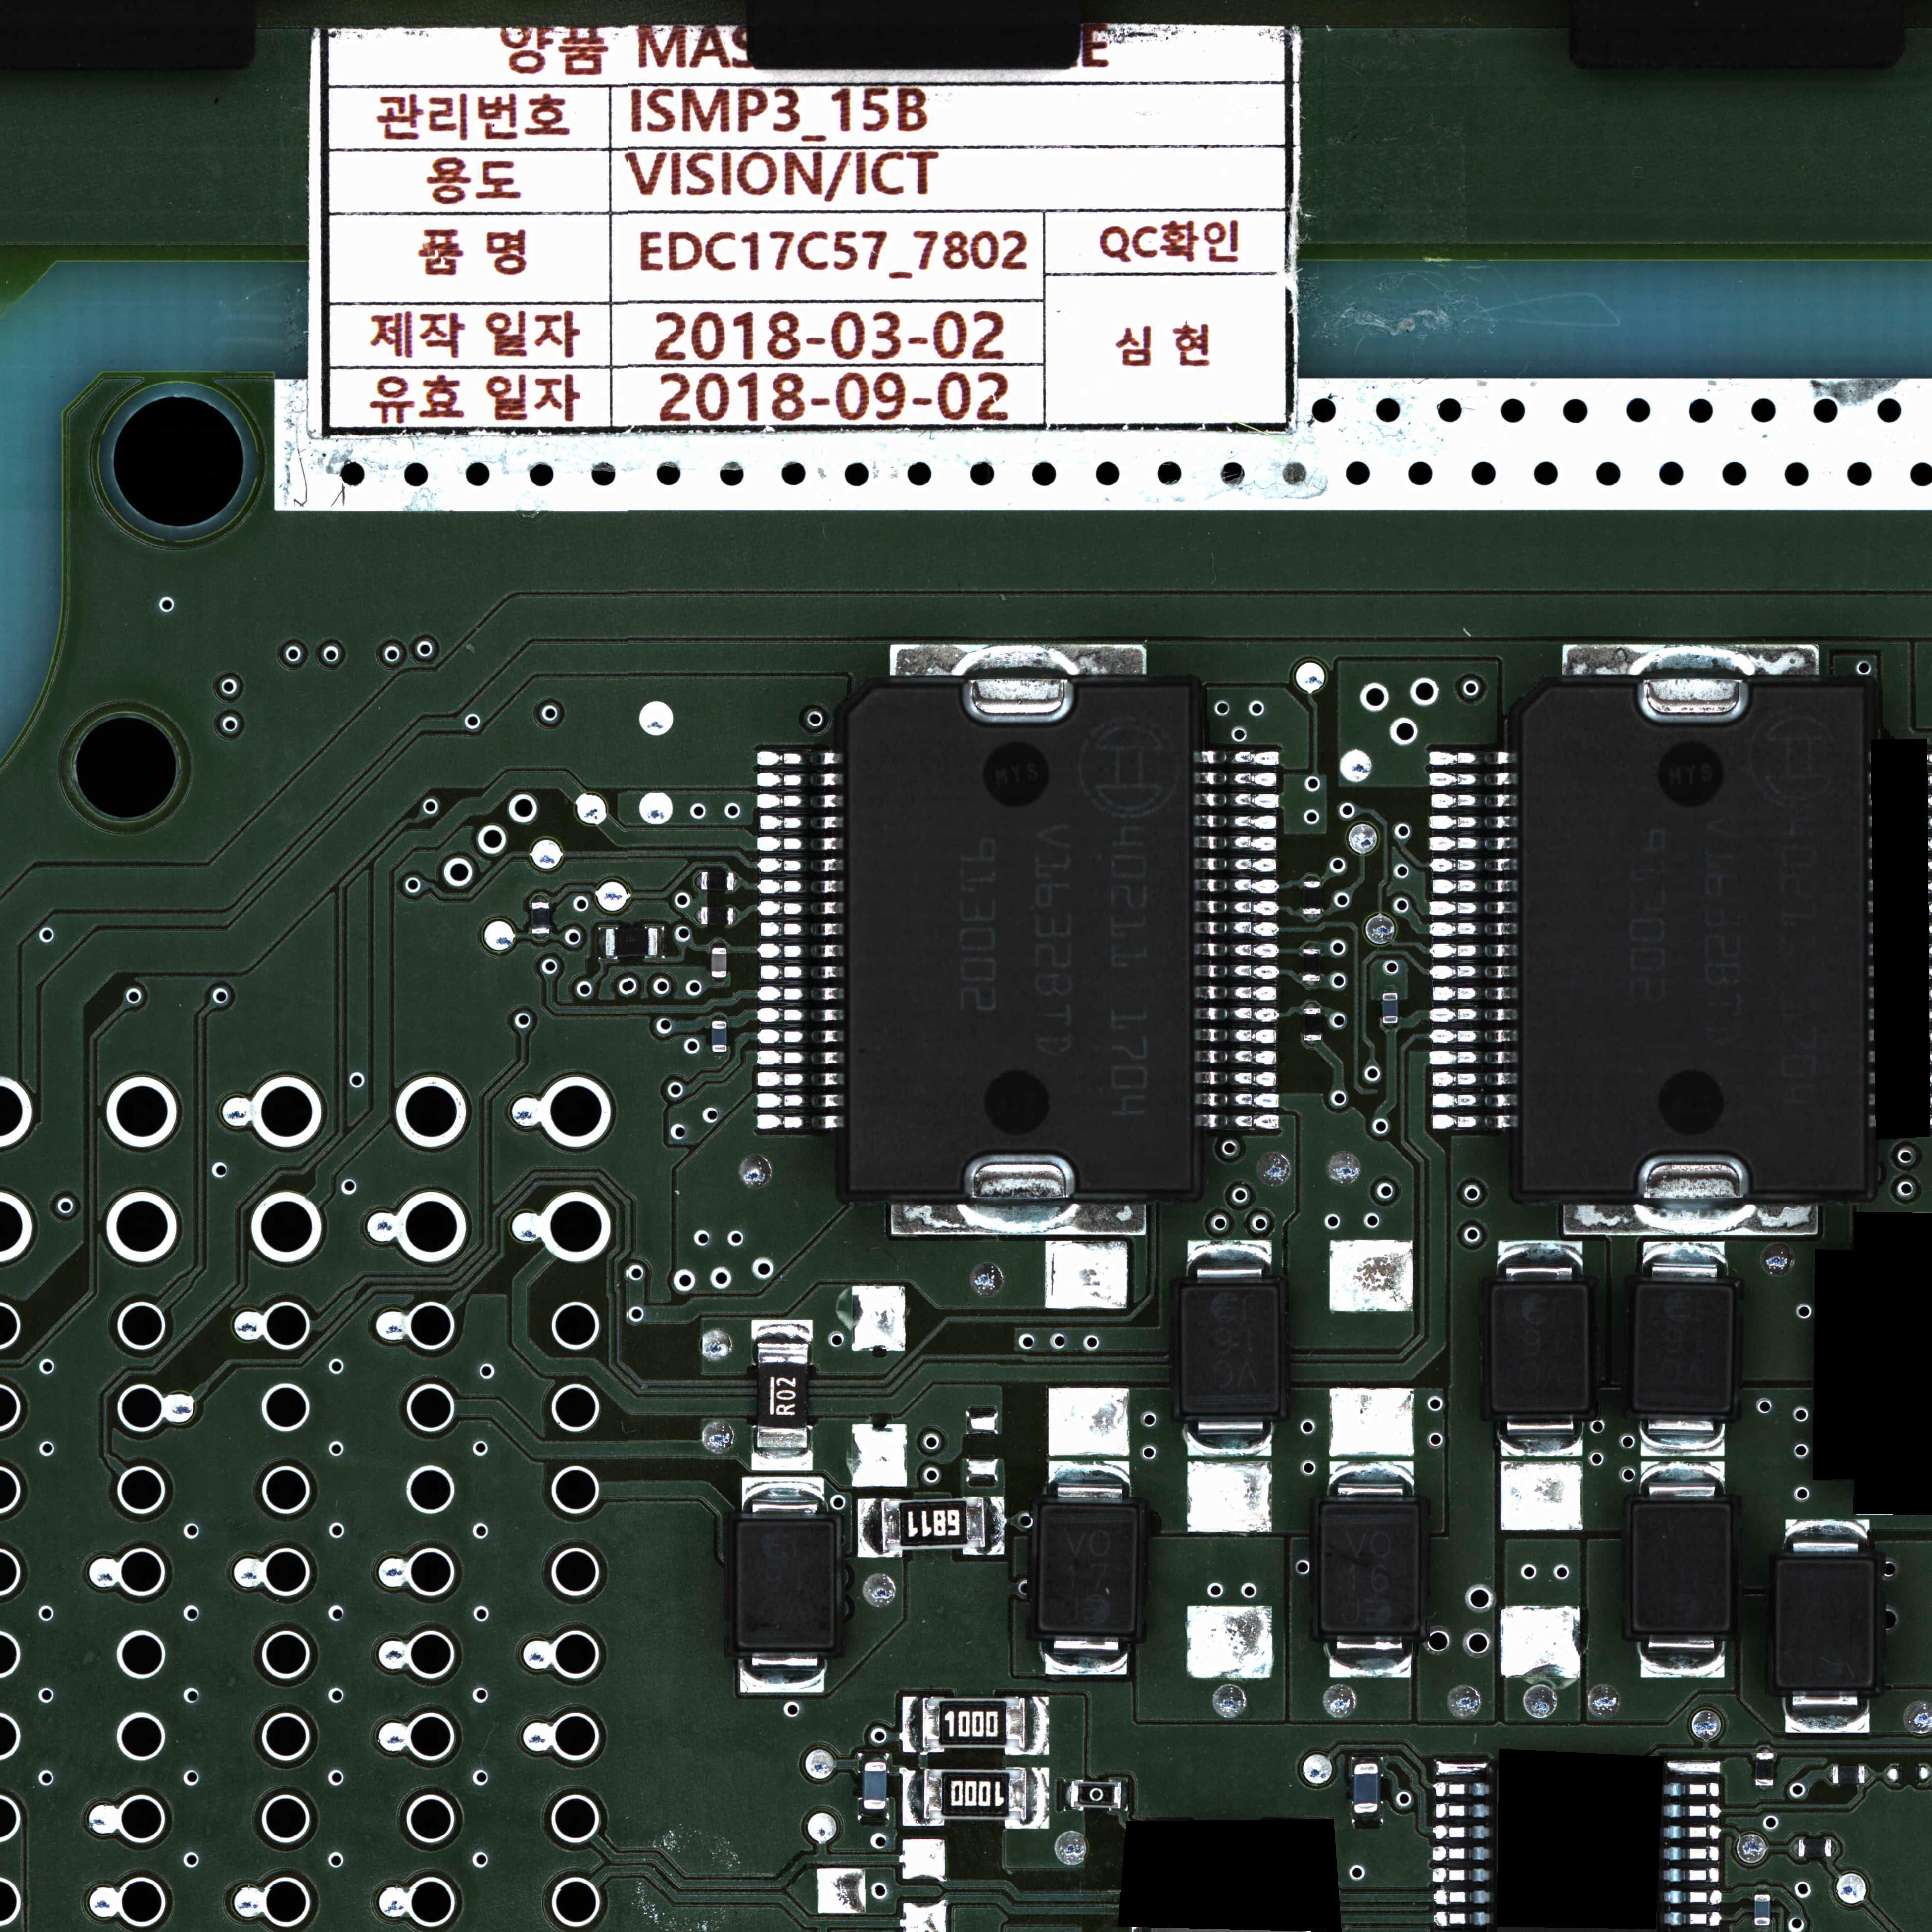Package: (1520, 679, 1867, 1198), (846, 686, 1191, 1192), (1178, 1284, 1281, 1414), (1320, 1502, 1419, 1633), (1775, 1559, 1874, 1688), (1039, 1504, 1138, 1633), (1635, 1283, 1732, 1414), (736, 1522, 835, 1649), (1491, 1284, 1589, 1414), (1633, 1504, 1730, 1633), (922, 1697, 1024, 1750), (883, 1499, 984, 1552), (924, 1769, 1026, 1821), (757, 1343, 807, 1447), (605, 927, 658, 955), (1070, 1782, 1120, 1808), (1353, 1762, 1378, 1812), (863, 1762, 886, 1810), (1798, 1838, 1831, 1858), (531, 901, 550, 934), (701, 872, 734, 892), (1304, 1007, 1322, 1040), (1302, 881, 1320, 915), (1755, 1752, 1773, 1785), (1302, 948, 1320, 980), (1833, 1766, 1865, 1783), (701, 906, 732, 924), (711, 1019, 727, 1051), (711, 947, 727, 977), (1753, 1895, 1769, 1925), (1382, 993, 1398, 1023)
Solder: (892, 1192, 1146, 1237), (890, 644, 1148, 686), (1562, 644, 1819, 676), (1560, 1205, 1819, 1235), (740, 1649, 824, 1693), (1783, 1688, 1868, 1732), (1187, 1240, 1272, 1284), (1329, 1633, 1412, 1677), (741, 1476, 824, 1520), (1329, 1460, 1414, 1502), (1500, 1414, 1583, 1456), (1640, 1635, 1723, 1677), (1642, 1238, 1725, 1281), (1499, 1240, 1582, 1283), (1642, 1461, 1725, 1504), (1187, 1415, 1272, 1456), (1049, 1461, 1131, 1504), (1640, 1415, 1725, 1456), (1785, 1518, 1868, 1559), (1046, 1633, 1127, 1674), (1431, 1026, 1516, 1046), (1431, 791, 1518, 809), (1431, 812, 1518, 830), (1431, 833, 1518, 851), (1431, 855, 1518, 872), (1194, 941, 1279, 959), (1431, 1047, 1516, 1065), (1431, 1069, 1516, 1086), (1196, 748, 1279, 766), (1196, 1113, 1279, 1131), (1194, 770, 1277, 787), (1196, 962, 1279, 980), (1196, 920, 1279, 938), (1431, 876, 1514, 893), (1433, 1005, 1516, 1023), (1196, 1005, 1277, 1023), (1196, 984, 1277, 1001), (755, 1049, 844, 1065), (752, 1447, 812, 1470), (757, 985, 844, 1001), (1431, 770, 1518, 786), (1431, 941, 1518, 957), (1431, 1092, 1518, 1108), (1433, 748, 1518, 764), (1431, 899, 1516, 915), (1433, 962, 1518, 978), (1431, 984, 1516, 1000), (1431, 1113, 1516, 1129), (1026, 1695, 1049, 1753), (858, 1499, 881, 1557), (1196, 899, 1279, 915), (1194, 835, 1277, 851), (1196, 1092, 1279, 1108), (1194, 856, 1277, 872), (1194, 814, 1277, 830), (1194, 793, 1277, 809), (1194, 878, 1277, 893), (761, 964, 844, 980), (1433, 920, 1516, 936), (761, 922, 842, 938), (1196, 1028, 1277, 1044), (1196, 1070, 1277, 1086), (1196, 1049, 1277, 1065), (752, 1320, 812, 1341), (755, 1093, 844, 1108), (1028, 1769, 1049, 1828), (755, 794, 842, 809), (757, 1008, 844, 1023), (757, 1115, 844, 1129), (757, 1072, 844, 1086), (755, 1030, 842, 1044), (757, 837, 842, 851), (757, 901, 842, 915), (757, 773, 842, 787), (757, 943, 842, 957), (757, 752, 842, 766), (757, 879, 842, 893), (757, 858, 842, 872), (761, 816, 842, 830), (901, 1695, 920, 1752), (902, 1769, 922, 1826), (985, 1497, 1003, 1553), (1663, 1868, 1721, 1884), (1433, 1822, 1490, 1838), (1433, 1845, 1490, 1861), (1433, 1867, 1490, 1882), (1663, 1824, 1720, 1840), (1663, 1847, 1720, 1863), (1665, 1911, 1721, 1927), (1435, 1888, 1490, 1904), (1665, 1803, 1720, 1819), (1665, 1890, 1720, 1905), (1437, 1760, 1488, 1776), (1435, 1911, 1491, 1925), (1437, 1782, 1490, 1796), (1437, 1803, 1490, 1817), (1665, 1783, 1718, 1798), (1667, 1762, 1720, 1776), (858, 1810, 888, 1819), (860, 1753, 888, 1762), (1062, 1778, 1069, 1810), (598, 927, 605, 959), (658, 927, 665, 957), (1352, 1755, 1380, 1762), (1122, 1782, 1129, 1808), (1353, 1813, 1378, 1821), (1790, 1838, 1799, 1858), (1831, 1838, 1838, 1858), (709, 939, 729, 947), (531, 893, 550, 901), (732, 906, 740, 925), (708, 977, 727, 984), (1302, 941, 1320, 948), (694, 872, 701, 890), (1302, 980, 1320, 987), (1755, 1785, 1773, 1792), (711, 1012, 727, 1019), (1753, 1886, 1769, 1893), (1382, 985, 1398, 993), (711, 1051, 727, 1058), (1755, 1925, 1769, 1932), (1304, 1040, 1322, 1046), (1755, 1746, 1773, 1752), (734, 872, 740, 890), (1304, 915, 1320, 920), (1304, 1001, 1320, 1007), (1304, 876, 1320, 881), (1826, 1766, 1831, 1782), (695, 908, 701, 924), (533, 934, 548, 939), (1865, 1767, 1870, 1782), (1382, 1024, 1398, 1028)
